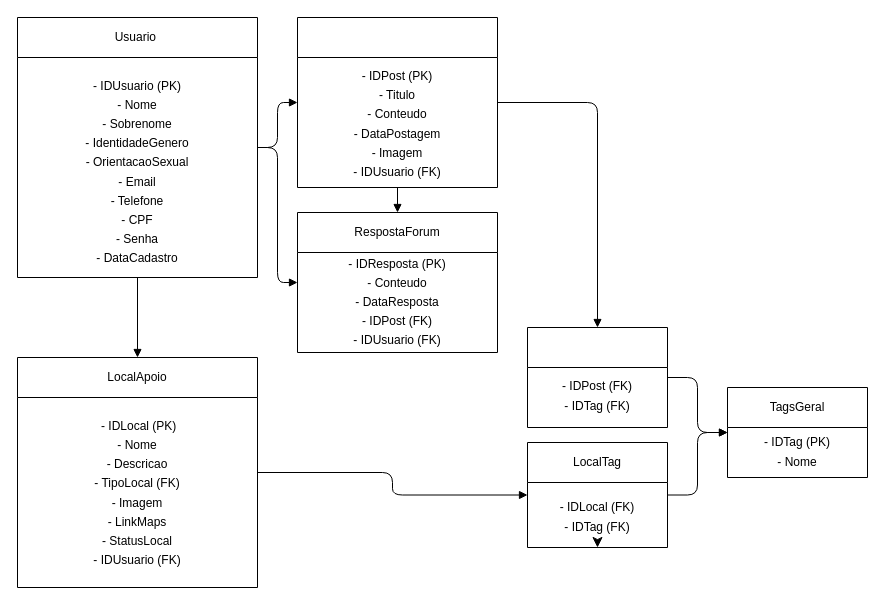
This 885x605 diagram has some shape labels left out. The box of each missing label's shape, as (x1, y1, x2, y2) in pixels:
PostForum: (296, 16, 498, 188)
PostTag: (526, 326, 668, 428)
